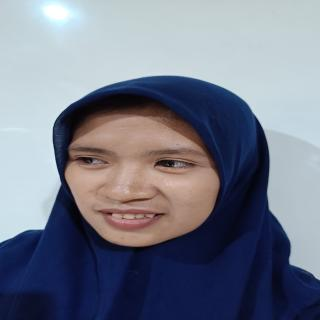Takut: (50, 96, 225, 252)
